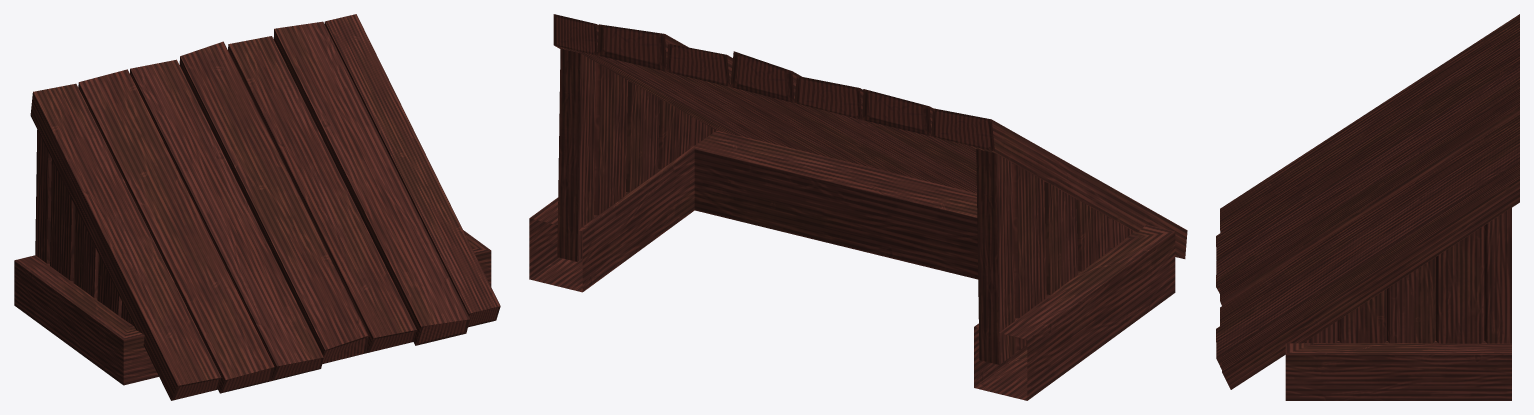
3 views of the same model, side by side, from view 1: azimuth 30°, elevation 25°; view 2: azimuth 150°, elevation 25°; view 3: azimuth 270°, elevation 25° (orthographic). The views are drawn at different scales.
Visible parts, largest first — view 1: Roof_Wooden_2x1; view 2: Roof_Wooden_2x1; view 3: Roof_Wooden_2x1.
Boxes of the visible parts, bbox=[...] form: Roof_Wooden_2x1: bbox=[14, 14, 500, 400]; Roof_Wooden_2x1: bbox=[529, 14, 1187, 400]; Roof_Wooden_2x1: bbox=[1216, 14, 1519, 400].
Bounding box in the file's own units: 2.26 × 1.25 × 1.56.
Materials: 2 (2 with a texture image).
